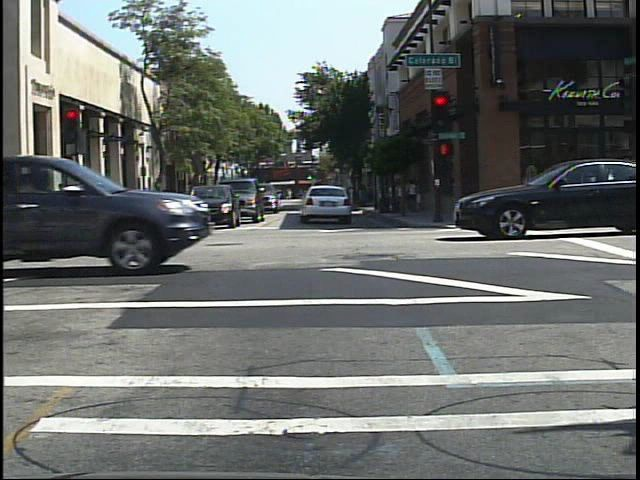person: (159, 180, 177, 216), (90, 188, 104, 229), (139, 182, 157, 212)
